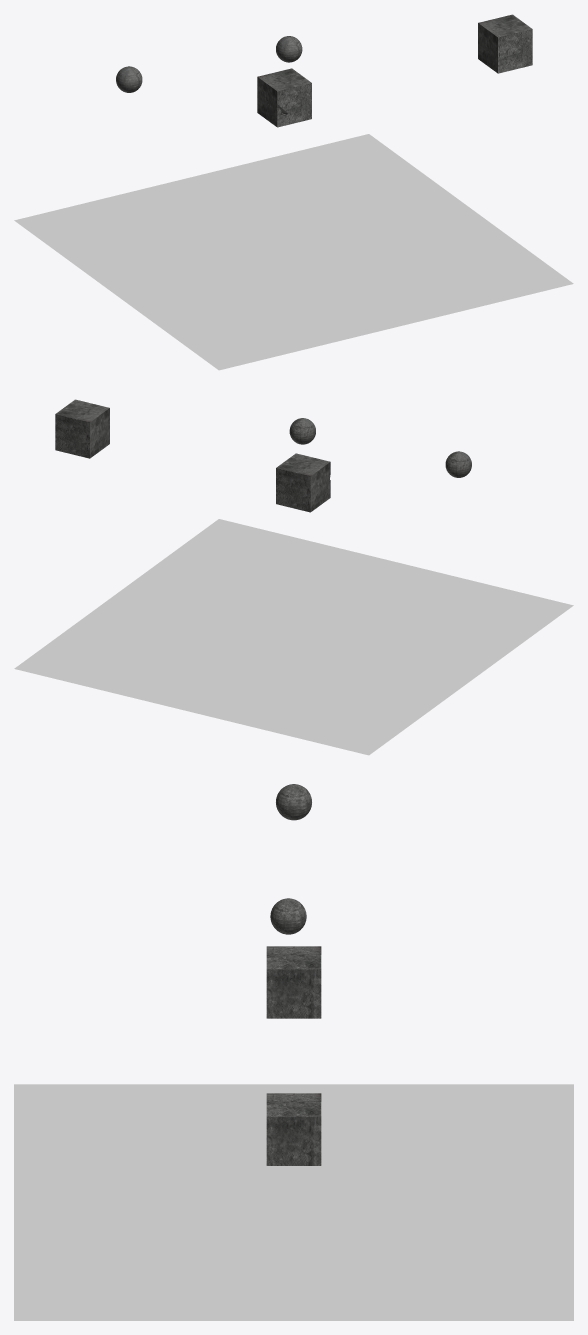
File: rubble.gltf
3 views of the same model, one above another, from view 1: azimuth 30°, elevation 25°; view 2: azimuth 150°, elevation 25°; view 3: azimuth 270°, elevation 25° (orthographic). The views are drawn at different scales.
Visible parts, largest first — view 1: Plane, Cube, Cube_cell.004, Sphere, Cube_cell.002; view 2: Plane, Cube, Cube_cell.004, Cube_cell.005, Sphere, Cube_cell; view 3: Plane, Cube, Cube_cell, Cube_cell.002, Sphere, Cube_cell.004.
Boxes of the visible parts, x1,y1,x2,y2 form: Plane: (14, 134, 573, 370); Cube: (478, 14, 532, 73); Cube_cell.004: (257, 73, 304, 114); Sphere: (116, 66, 142, 92); Cube_cell.002: (290, 77, 311, 112); Plane: (14, 519, 573, 755); Cube: (55, 399, 109, 458); Cube_cell.004: (287, 456, 330, 488); Cube_cell.005: (295, 484, 328, 512); Sphere: (445, 451, 471, 477); Cube_cell: (276, 459, 296, 490); Plane: (14, 1084, 573, 1320); Cube: (266, 1093, 321, 1165); Cube_cell: (289, 956, 321, 1003); Cube_cell.002: (266, 962, 298, 1004); Sphere: (276, 784, 311, 820); Cube_cell.004: (266, 946, 321, 971).
Size of the model in its own units: 35.24 by 18.63 by 30.8.
1 material, 1 textured.
